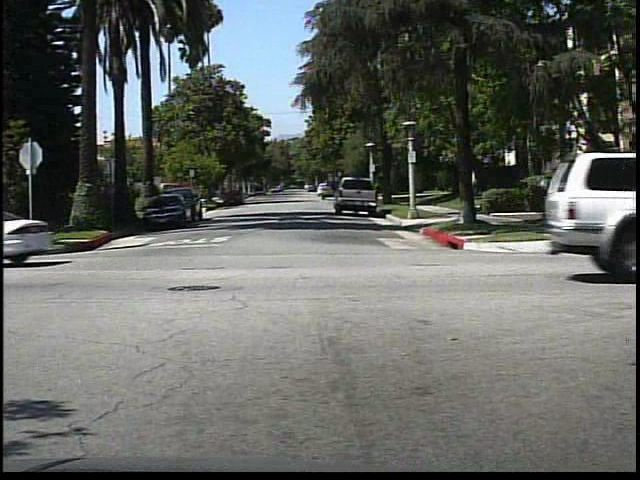person: (556, 167, 586, 237)
